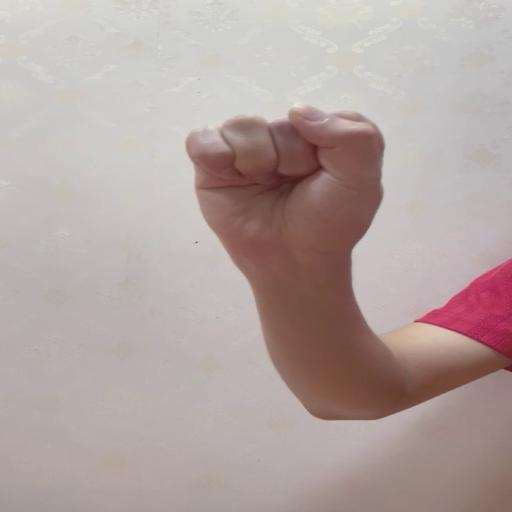fist: (183, 101, 386, 255)
